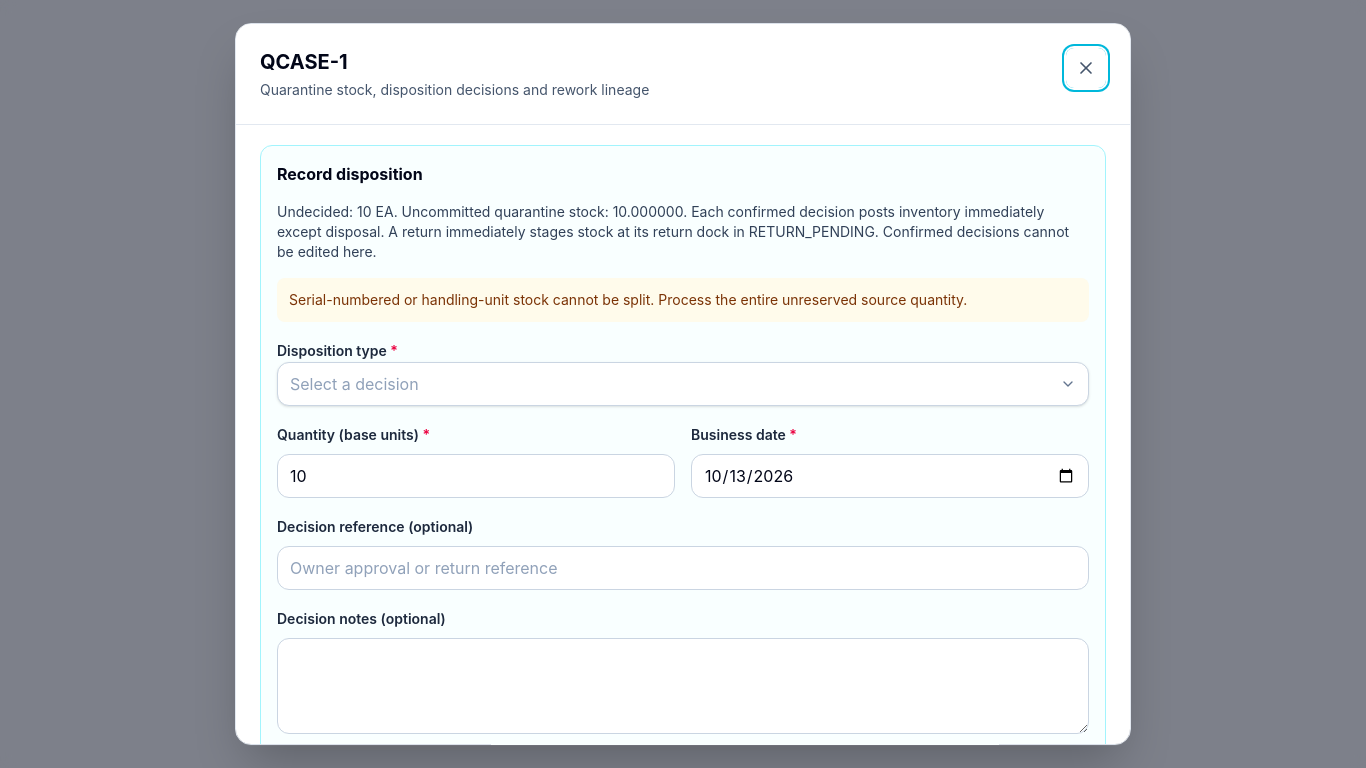
quarantine decisions › rejects split decisions for serial-numbered or handling-unit stock
(page scrolled)
Click the dropdown named "Disposition type" at [354, 384], box [277, 362, 1089, 406]
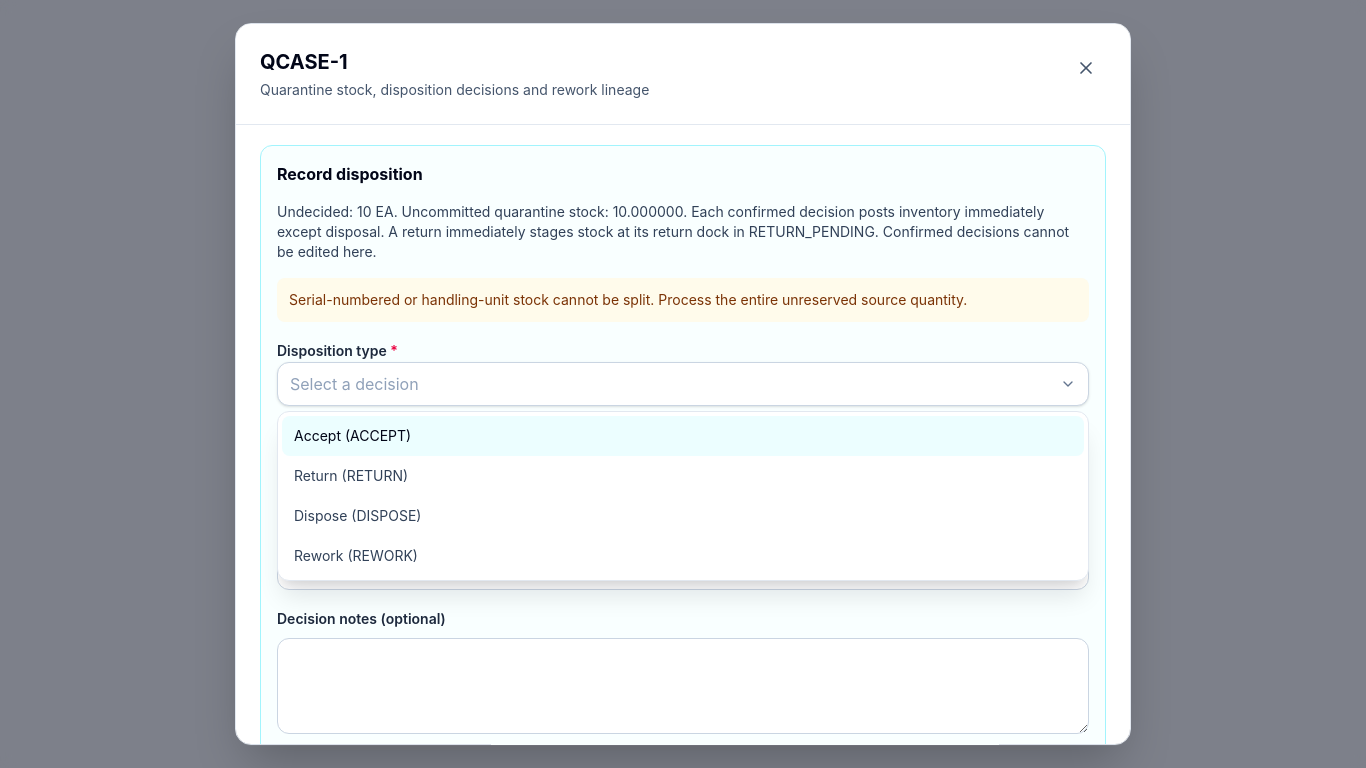
Click the option "Return (RETURN)" at [351, 476], box [294, 467, 408, 484]
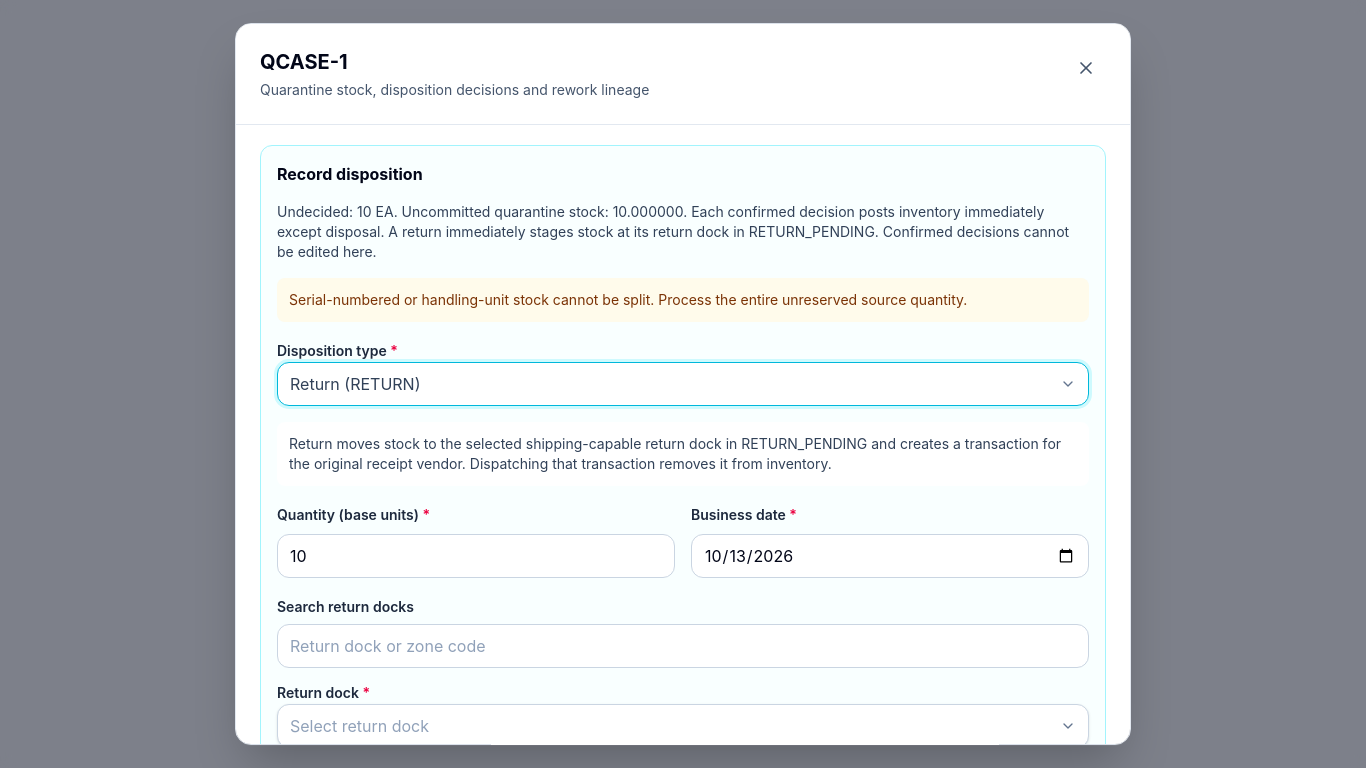
Replace the text in the field labelled "Quantity (base units) *" with "2" at [476, 556], box [277, 534, 675, 578]
(page scrolled)
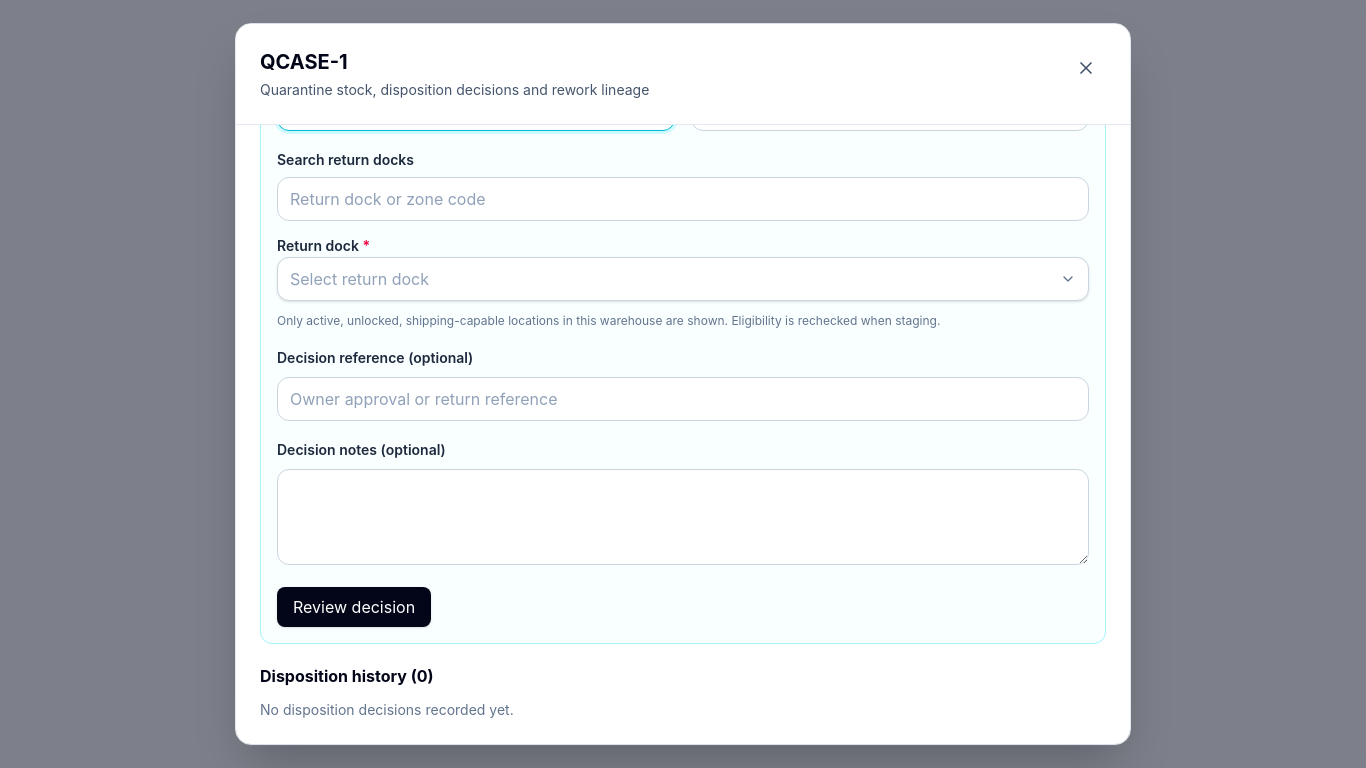
Click the button "Review decision" at [354, 607], box [277, 587, 431, 627]
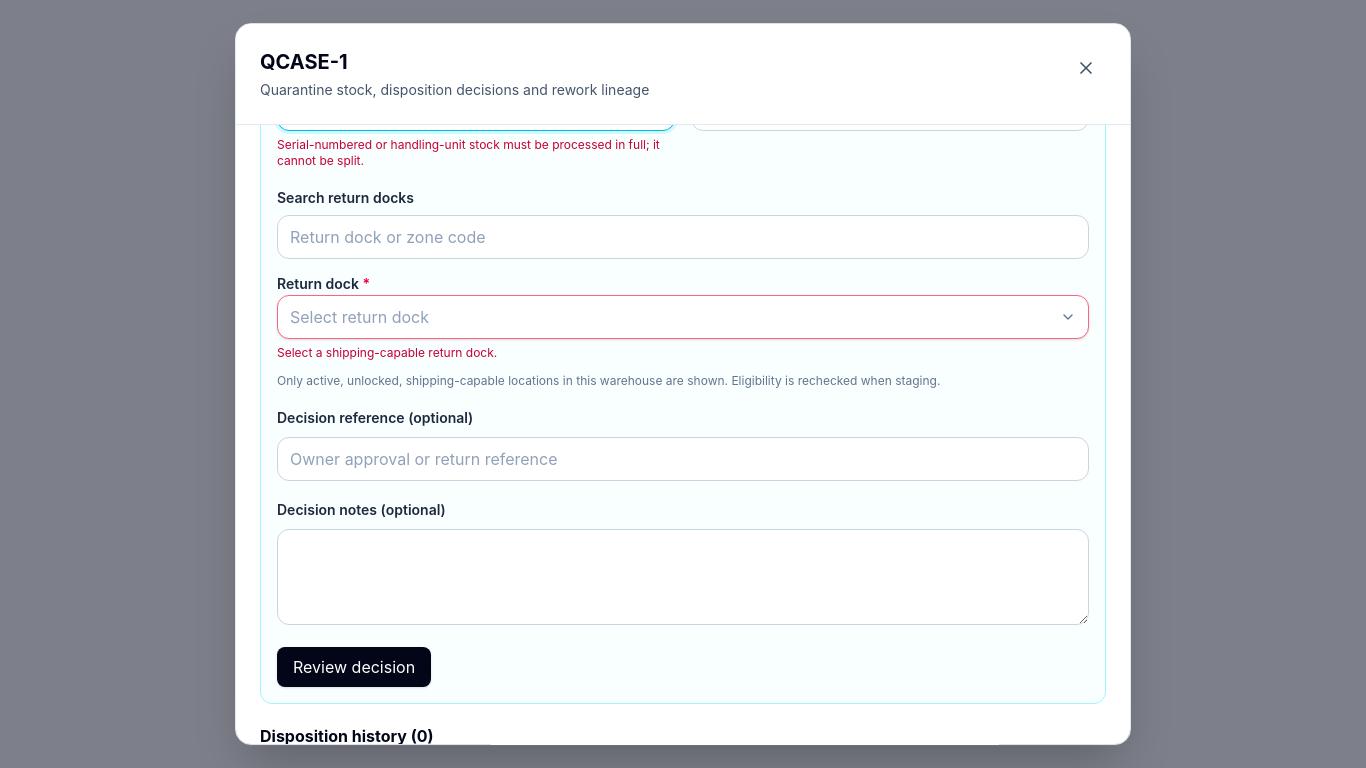
Check: the text "must be processed in full" is shown, box [277, 137, 660, 168]
